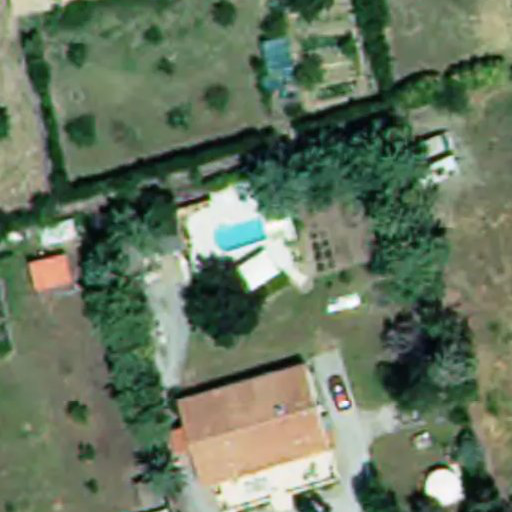pool: (220, 231, 286, 251)
